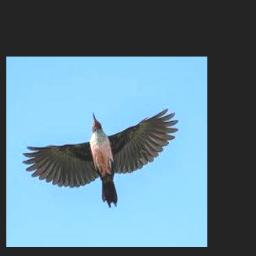Woodpecker: (23, 109, 178, 208)
